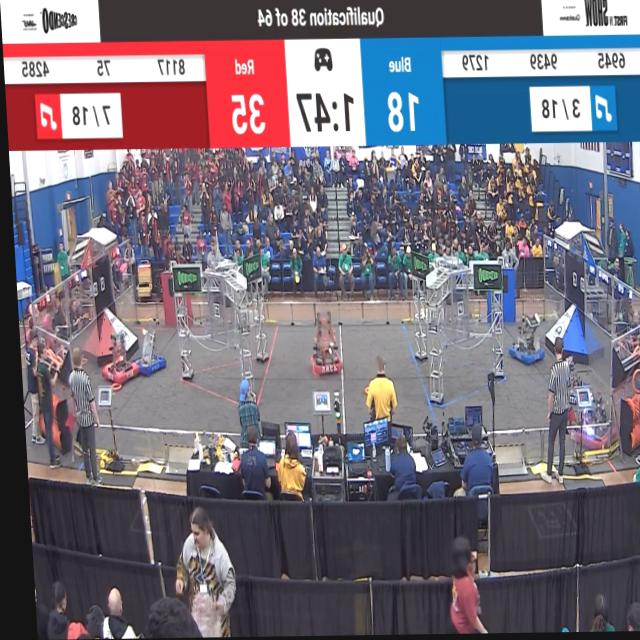Robot: (94, 314, 136, 390), (569, 382, 611, 452), (302, 310, 338, 382), (503, 313, 539, 370), (130, 320, 163, 379)
